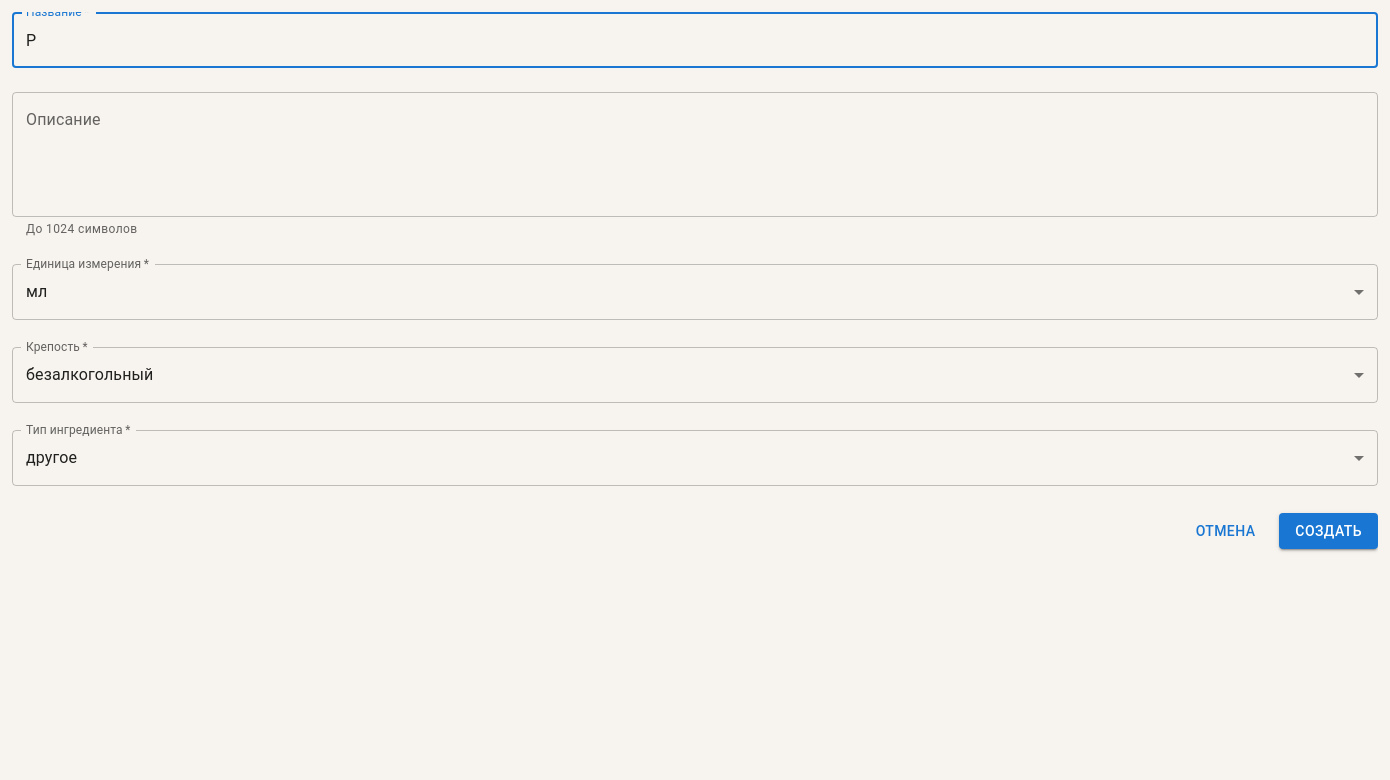
it: IngredientForm › не отправляет форму с коротким названием
Click the button "Создать".
click(1329, 531)  # box x1=1279 y1=513 x2=1378 y2=549
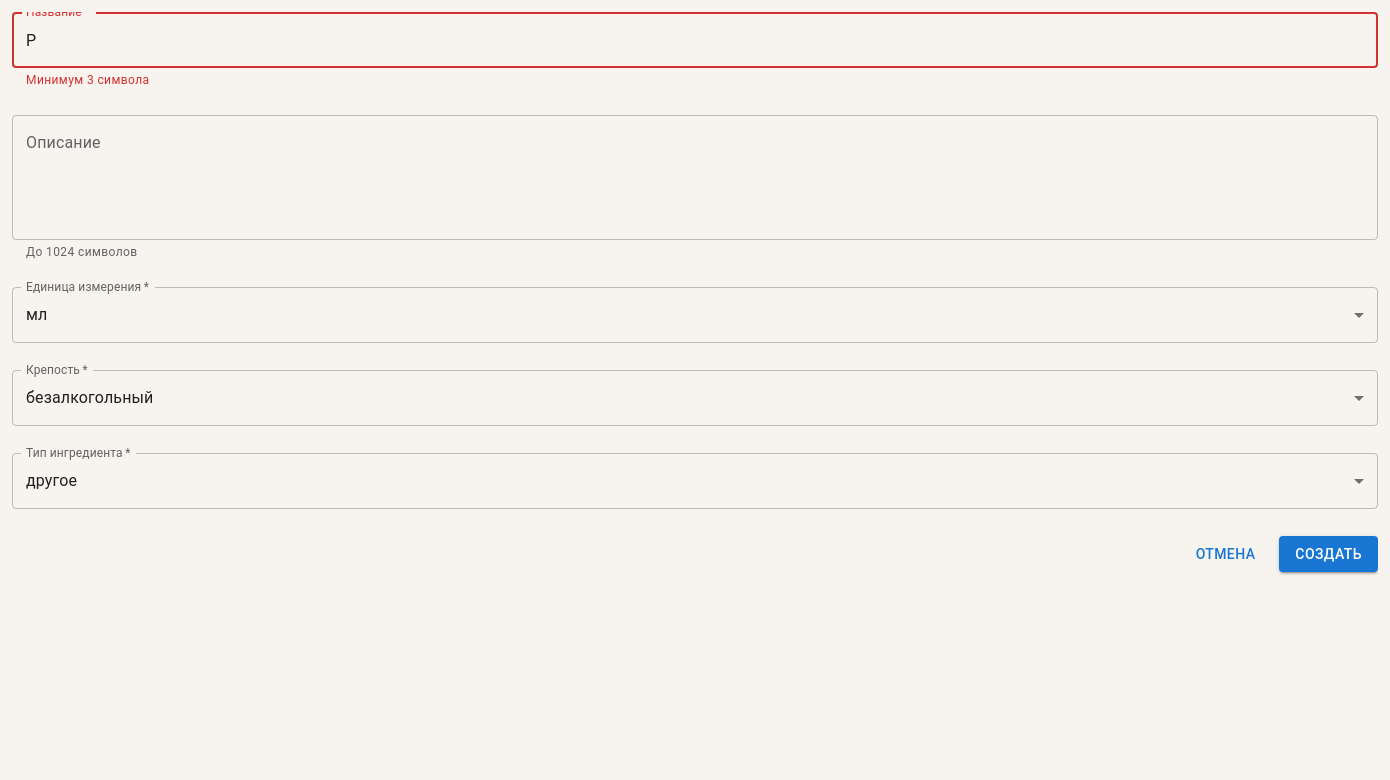
Now the text "Минимум 3 символа" is shown, box x1=26 y1=73 x2=149 y2=87
